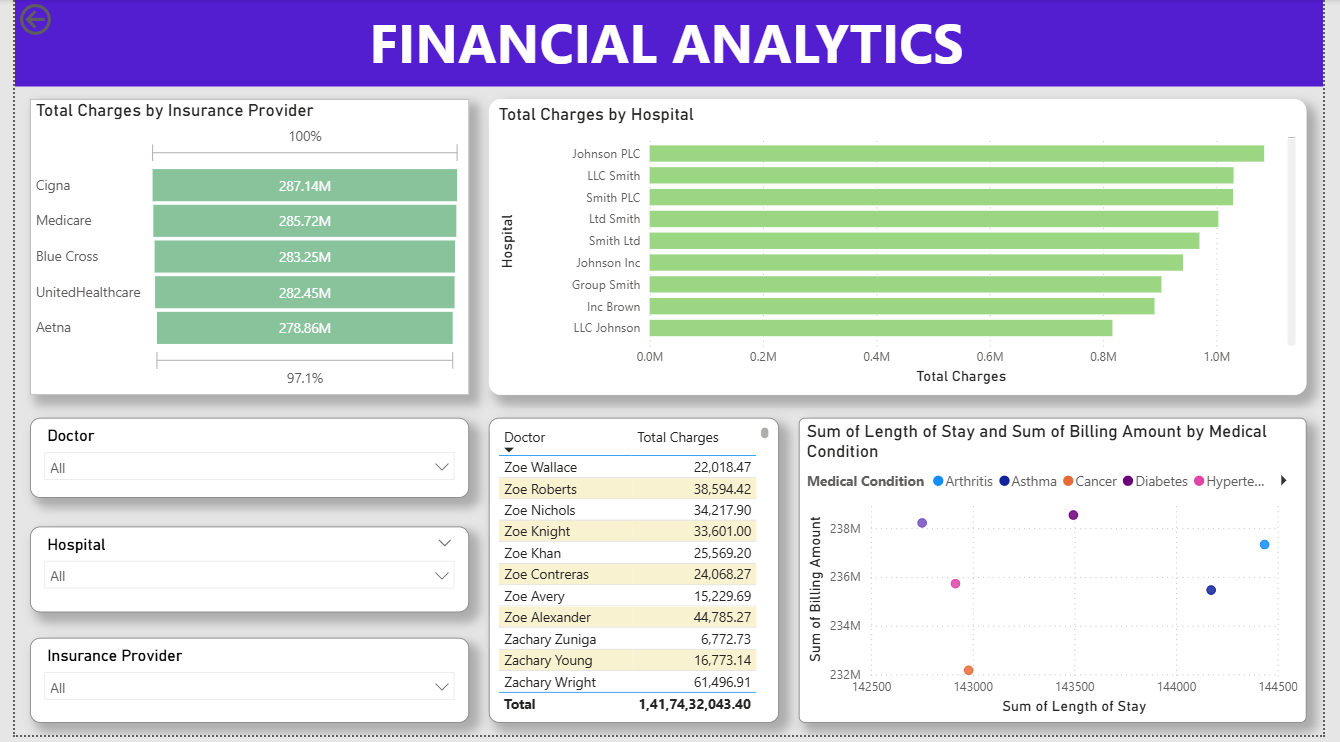

The dashboard page shown, as its layout file describes it:
{"tool":"powerbi","page":{"name":"Page 3","canvas":[1280,720],"ordinal":2},"visuals":[{"type":"textbox","box":[0,0,1280.3,85.6],"z":0},{"type":"clusteredBarChart","fields":{"Category":["healthcare_dataset.Hospital"],"Y":["healthcare_dataset.Total Charges"]},"box":[463.5,97.8,799.7,289.8],"z":1000},{"type":"funnel","fields":{"Category":["healthcare_dataset.Insurance Provider"],"Y":["healthcare_dataset.Total Charges"]},"box":[14.7,97.8,429.2,289.8],"z":2000},{"type":"scatterChart","fields":{"Series":["healthcare_dataset.Medical Condition"],"X":["Sum(healthcare_dataset.Length of Stay)"],"Y":["Sum(healthcare_dataset.Billing Amount)"]},"box":[766.7,409.6,496.5,298.4],"z":3000},{"type":"tableEx","fields":{"Values":["healthcare_dataset.Doctor","healthcare_dataset.Total Charges"]},"box":[463.5,409.6,283.7,298.4],"z":4000},{"type":"slicer","fields":{"Values":["healthcare_dataset.Doctor"]},"box":[14.7,409.6,429.2,78.3],"z":5000},{"type":"actionButton","box":[0,0,100,40],"z":6000},{"type":"slicer","fields":{"Values":["healthcare_dataset.Hospital"]},"box":[14.7,516,429.2,84.4],"z":7000},{"type":"slicer","fields":{"Values":["healthcare_dataset.Insurance Provider"]},"box":[14.7,624.9,429.2,83.2],"z":8000}]}

Visuals, with their boxes in screenshot pixels (x1, y1, x2, y2), scaled from the page's 1280x720 canvas onto the 1340x742 screenshot:
textbox: <region>0, 0, 1339, 88</region>
clusteredBarChart - healthcare_dataset.Hospital x healthcare_dataset.Total Charges: <region>485, 101, 1322, 399</region>
funnel - healthcare_dataset.Insurance Provider x healthcare_dataset.Total Charges: <region>15, 101, 465, 399</region>
scatterChart - healthcare_dataset.Medical Condition x Sum(healthcare_dataset.Length of Stay): <region>803, 422, 1322, 730</region>
tableEx - healthcare_dataset.Doctor x healthcare_dataset.Total Charges: <region>485, 422, 782, 730</region>
slicer - healthcare_dataset.Doctor: <region>15, 422, 465, 503</region>
actionButton: <region>0, 0, 105, 41</region>
slicer - healthcare_dataset.Hospital: <region>15, 532, 465, 619</region>
slicer - healthcare_dataset.Insurance Provider: <region>15, 644, 465, 730</region>
